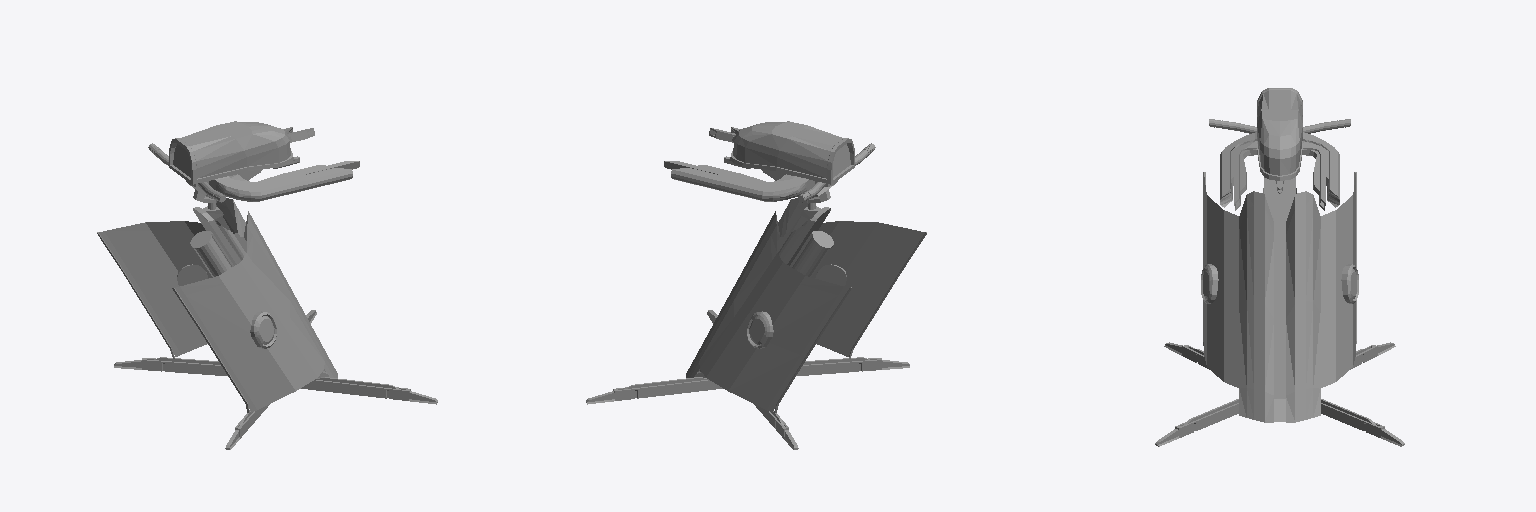
Rendered from TurretFinished.obj.
3 views of the same model, side by side, from view 1: azimuth 30°, elevation 25°; view 2: azimuth 150°, elevation 25°; view 3: azimuth 270°, elevation 25° (orthographic).
Visible parts, largest first — view 1: Shield_Cylinder, Turret_(Grey)_Cube.015, Turret_(Blue)_Cube.011, Shield_generator_Cylinder.001; view 2: Shield_Cylinder, Turret_(Grey)_Cube.015, Turret_(Blue)_Cube.011, Shield_generator_Cylinder.001; view 3: Shield_Cylinder, Turret_(Grey)_Cube.015, Turret_(Blue)_Cube.011, Shield_generator_Cylinder.001.
Boxes of the visible parts, box(x1,y1,x2,y2) form: Shield_Cylinder: box(99, 198, 337, 412); Turret_(Grey)_Cube.015: box(97, 128, 437, 449); Turret_(Blue)_Cube.011: box(169, 121, 352, 201); Shield_generator_Cylinder.001: box(177, 264, 276, 348); Shield_Cylinder: box(686, 198, 924, 412); Turret_(Grey)_Cube.015: box(586, 128, 926, 449); Turret_(Blue)_Cube.011: box(671, 121, 854, 201); Shield_generator_Cylinder.001: box(747, 264, 846, 348); Shield_Cylinder: box(1204, 177, 1355, 422); Turret_(Grey)_Cube.015: box(1155, 119, 1404, 446); Turret_(Blue)_Cube.011: box(1220, 88, 1339, 207); Shield_generator_Cylinder.001: box(1201, 264, 1358, 303).
Bounding box in the file's own units: 4.01 × 4.15 × 3.58.